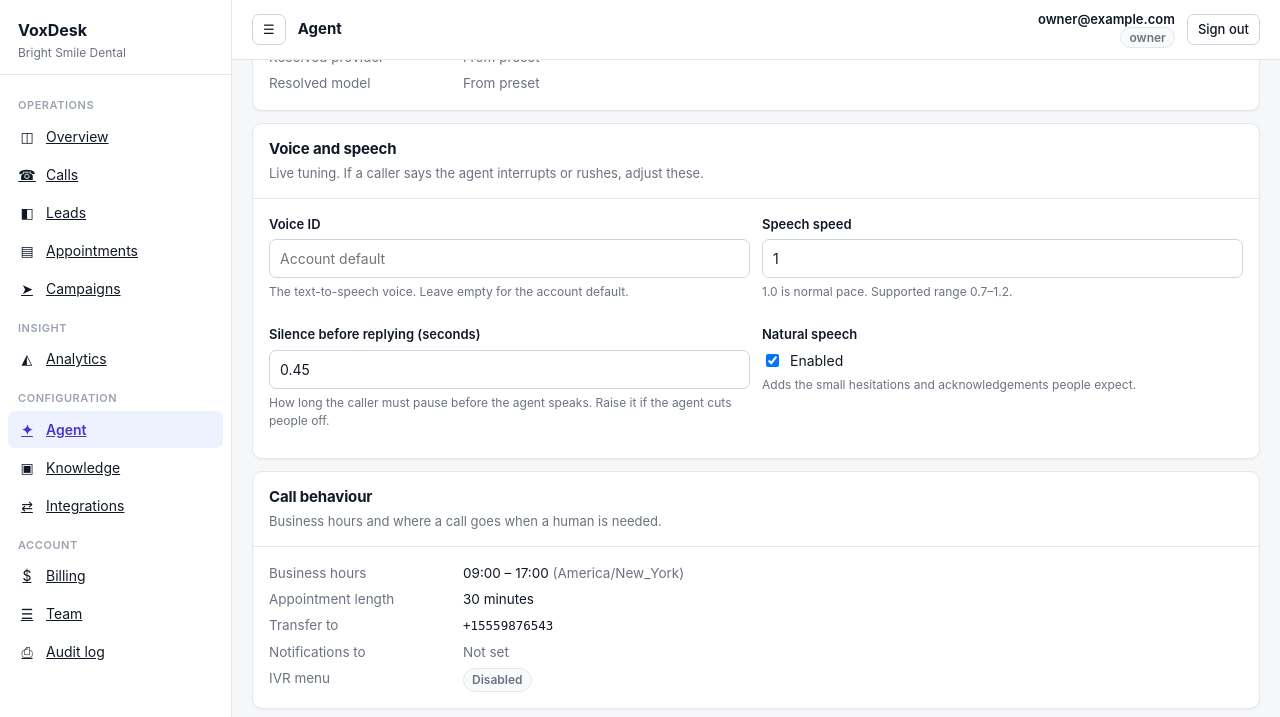
Test case: saving › confirms success and refetches the server copy
(page scrolled)
Click the checkbox labelled "Natural speech".
click(772, 360)  # box [766,354,779,366]
(page scrolled)
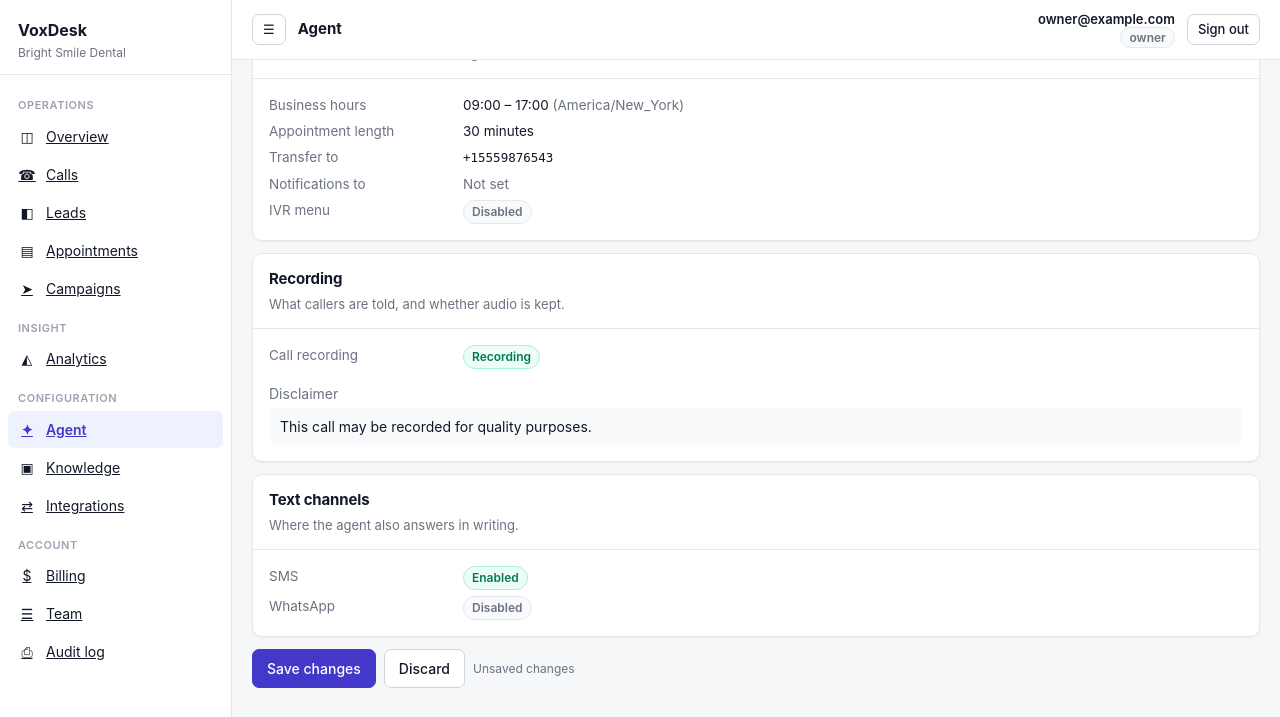
Click the button "Save changes".
click(314, 668)  # box [252,649,376,688]
(page scrolled)
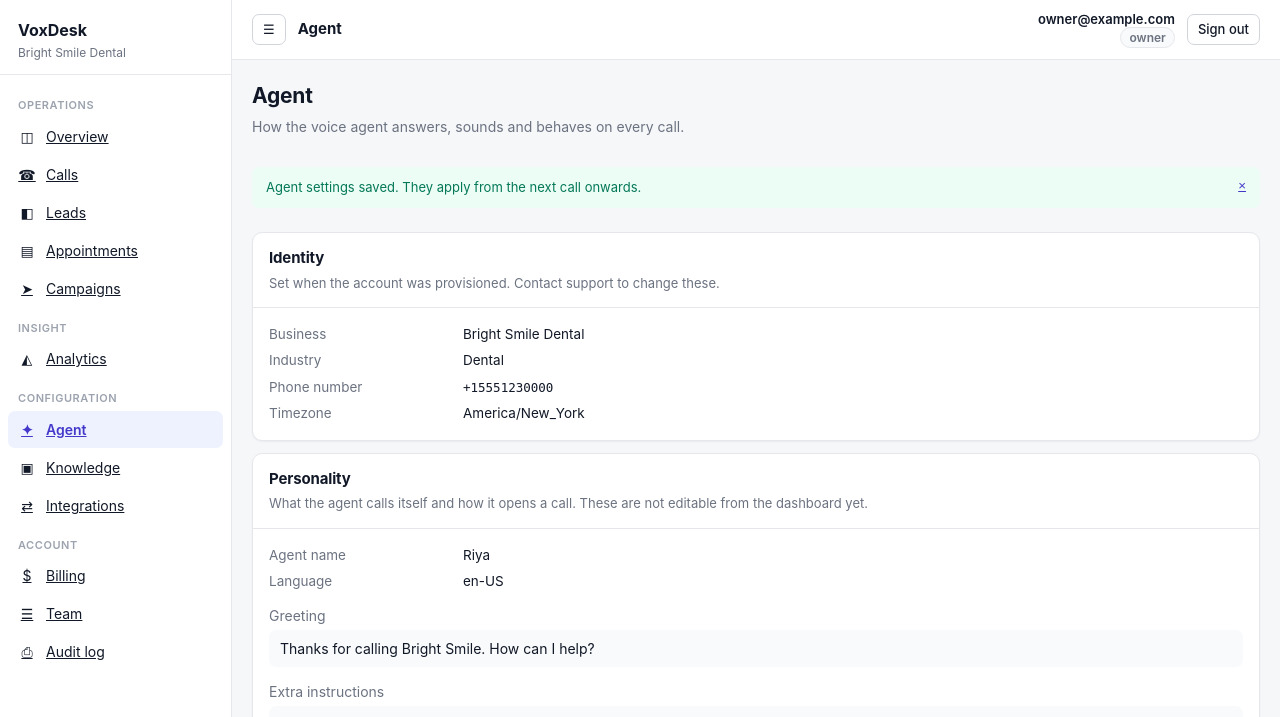
Result: the text "Agent settings saved. They apply from the next call onwards." is shown at [266,178,641,194]
